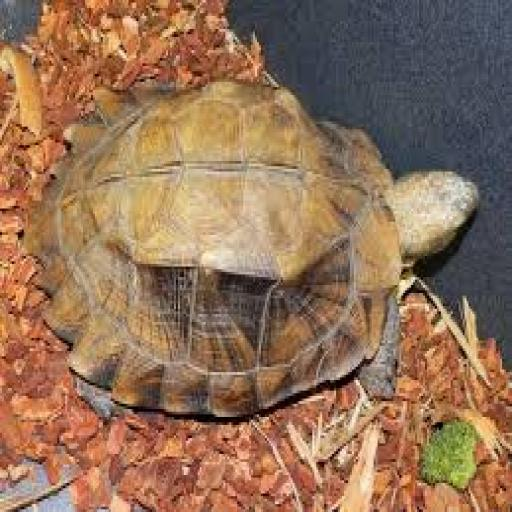turtle: (28, 77, 484, 420)
